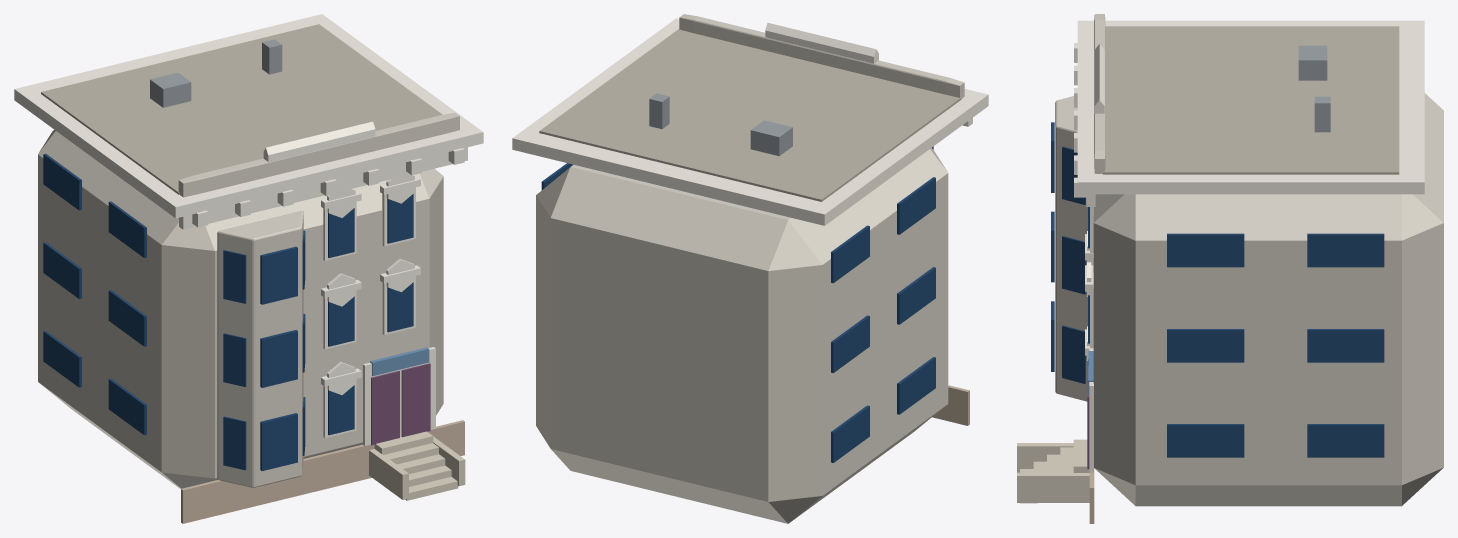
Rendered from ital_w11_tall.glb.
3 renders of one model, left to right at view 1: azimuth 30°, elevation 25°; view 2: azimuth 150°, elevation 25°; view 3: azimuth 270°, elevation 25°, orthographic. The views are drawn at different scales.
Parts seen in each view (by area): view 1: walls, roofslab, corn, bay, bsmt, fparapet, frieze, door.001, door, bw.002, bw, bw.001 (+30 smaller); view 2: walls, roofslab, corn, fparapet, sb, sb.004, sb.008, sb.010, sb.002, sb.006, hvac, roof (+3 smaller); view 3: walls, roofslab, corn, bay, sb.009, sb.011, sb.001, sb.003, sb.005, sb.007, cheek.001, fparapet (+8 smaller).
Part boxes in pixels (<box>): walls: <box>38,129,443,488</box>; roofslab: <box>41,24,442,194</box>; corn: <box>14,14,483,218</box>; bay: <box>217,210,303,487</box>; bsmt: <box>181,420,464,523</box>; fparapet: <box>178,113,459,197</box>; frieze: <box>179,147,467,229</box>; door.001: <box>401,363,430,437</box>; door: <box>371,371,399,445</box>; bw.002: <box>260,246,297,304</box>; bw: <box>260,413,297,471</box>; bw.001: <box>260,330,297,387</box>; walls: <box>536,148,948,523</box>; roofslab: <box>539,29,961,201</box>; corn: <box>512,18,988,225</box>; fparapet: <box>679,14,964,98</box>; sb: <box>897,357,935,414</box>; sb.004: <box>897,267,935,324</box>; sb.008: <box>897,177,935,234</box>; sb.010: <box>831,225,869,283</box>; sb.002: <box>831,405,869,462</box>; sb.006: <box>831,315,869,373</box>; hvac: <box>750,120,792,156</box>; roof: <box>765,23,878,56</box>; walls: <box>1093,93,1443,506</box>; roofslab: <box>1103,26,1399,174</box>; corn: <box>1077,20,1424,194</box>; bay: <box>1055,96,1087,401</box>; sb.009: <box>1167,233,1244,267</box>; sb.011: <box>1307,233,1384,267</box>; sb.001: <box>1167,424,1244,457</box>; sb.003: <box>1307,424,1384,457</box>; sb.005: <box>1167,329,1244,362</box>; sb.007: <box>1307,329,1384,362</box>; cheek.001: <box>1017,472,1089,502</box>; fparapet: <box>1094,14,1105,173</box>.
Bounding box in the file's own units: 12 × 13.15 × 13.4.
